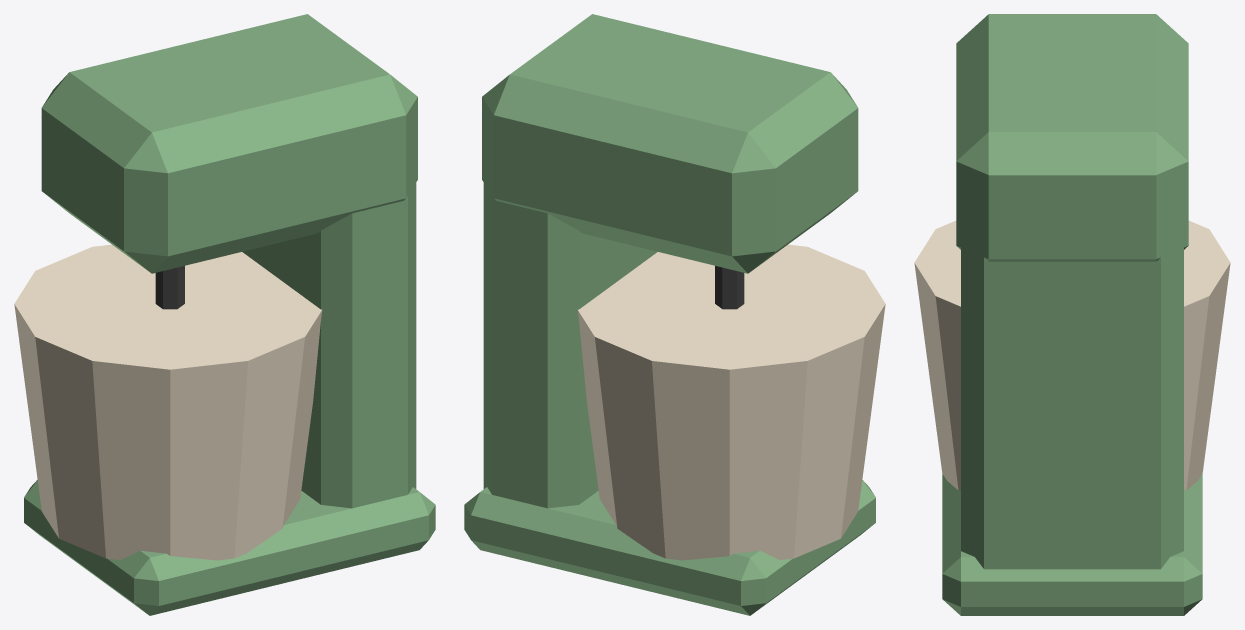
3 views of the same model, side by side, from view 1: azimuth 30°, elevation 25°; view 2: azimuth 150°, elevation 25°; view 3: azimuth 270°, elevation 25° (orthographic).
Parts seen in each view (by area): view 1: Bowl, Mixer head, Motor post, Base, Mixer shaft; view 2: Bowl, Mixer head, Motor post, Base, Mixer shaft; view 3: Motor post, Mixer head, Bowl, Base.
Boxes of the visible parts, x1,y1,x2,y2 form: Bowl: (14,244,322,560); Mixer head: (41,14,417,273); Motor post: (242,183,416,508); Base: (24,480,435,615); Mixer shaft: (155,266,184,309); Bowl: (577,244,885,560); Mixer head: (482,14,858,273); Motor post: (483,120,657,508); Base: (464,480,875,615); Mixer shaft: (715,266,744,309); Motor post: (961,184,1183,569); Mixer head: (956,14,1188,261); Bowl: (914,220,1230,490); Base: (942,474,1202,615).
Size of the model in its own units: 43.5 by 56.5 by 34.
